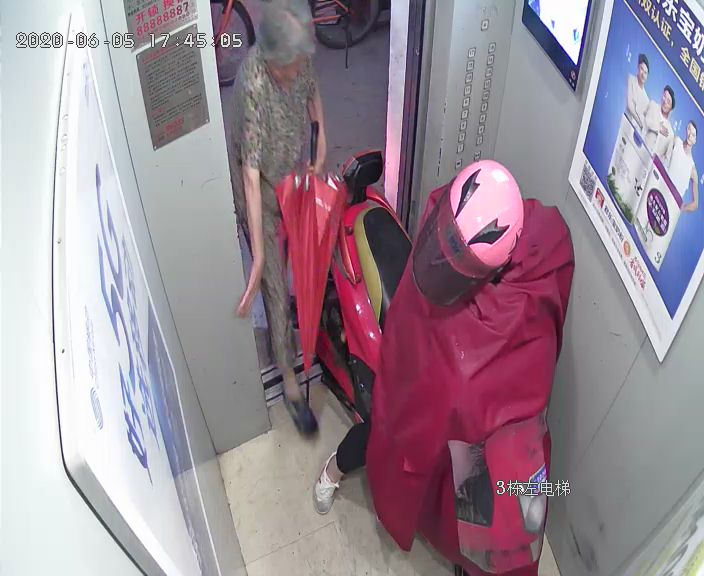Electric-bicycle: (286, 142, 551, 574)
